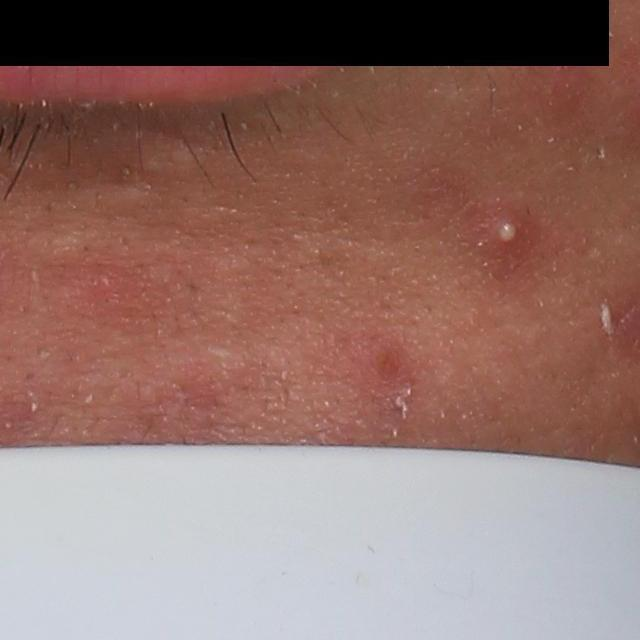hypertrophic_scar: (85, 174, 169, 222), (132, 139, 213, 180), (30, 229, 93, 262)
pustule: (482, 204, 541, 263)
